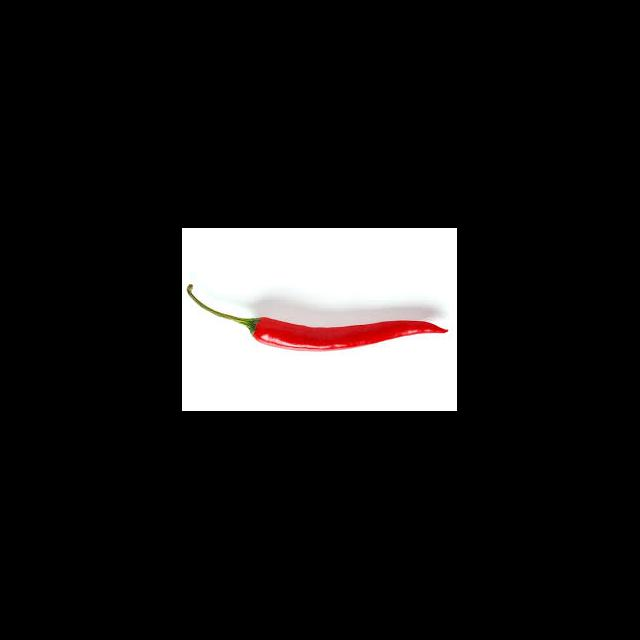chili_pepper: (192, 286, 456, 352)
